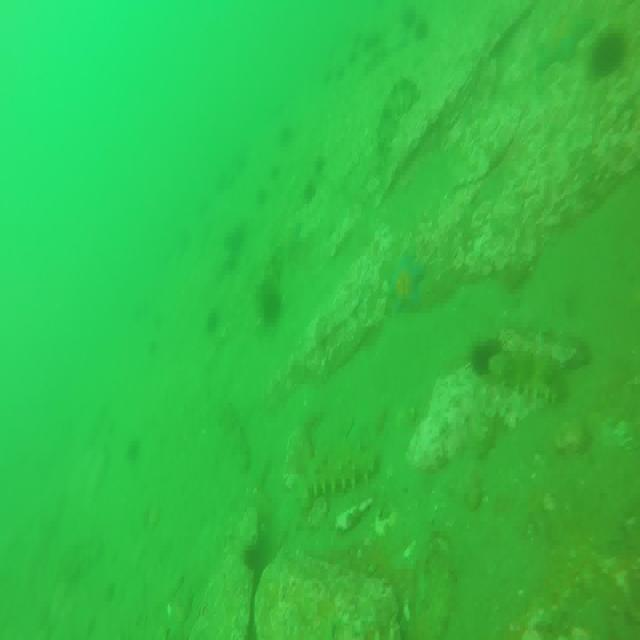echinus: (592, 27, 621, 90), (470, 334, 498, 376), (261, 287, 283, 325), (302, 182, 319, 206), (206, 308, 220, 337), (268, 158, 282, 185), (255, 185, 272, 207), (278, 125, 294, 148), (126, 439, 139, 463)
holothurian: (491, 346, 572, 404), (301, 446, 377, 506)
starfish: (538, 8, 594, 70), (391, 251, 424, 316)
